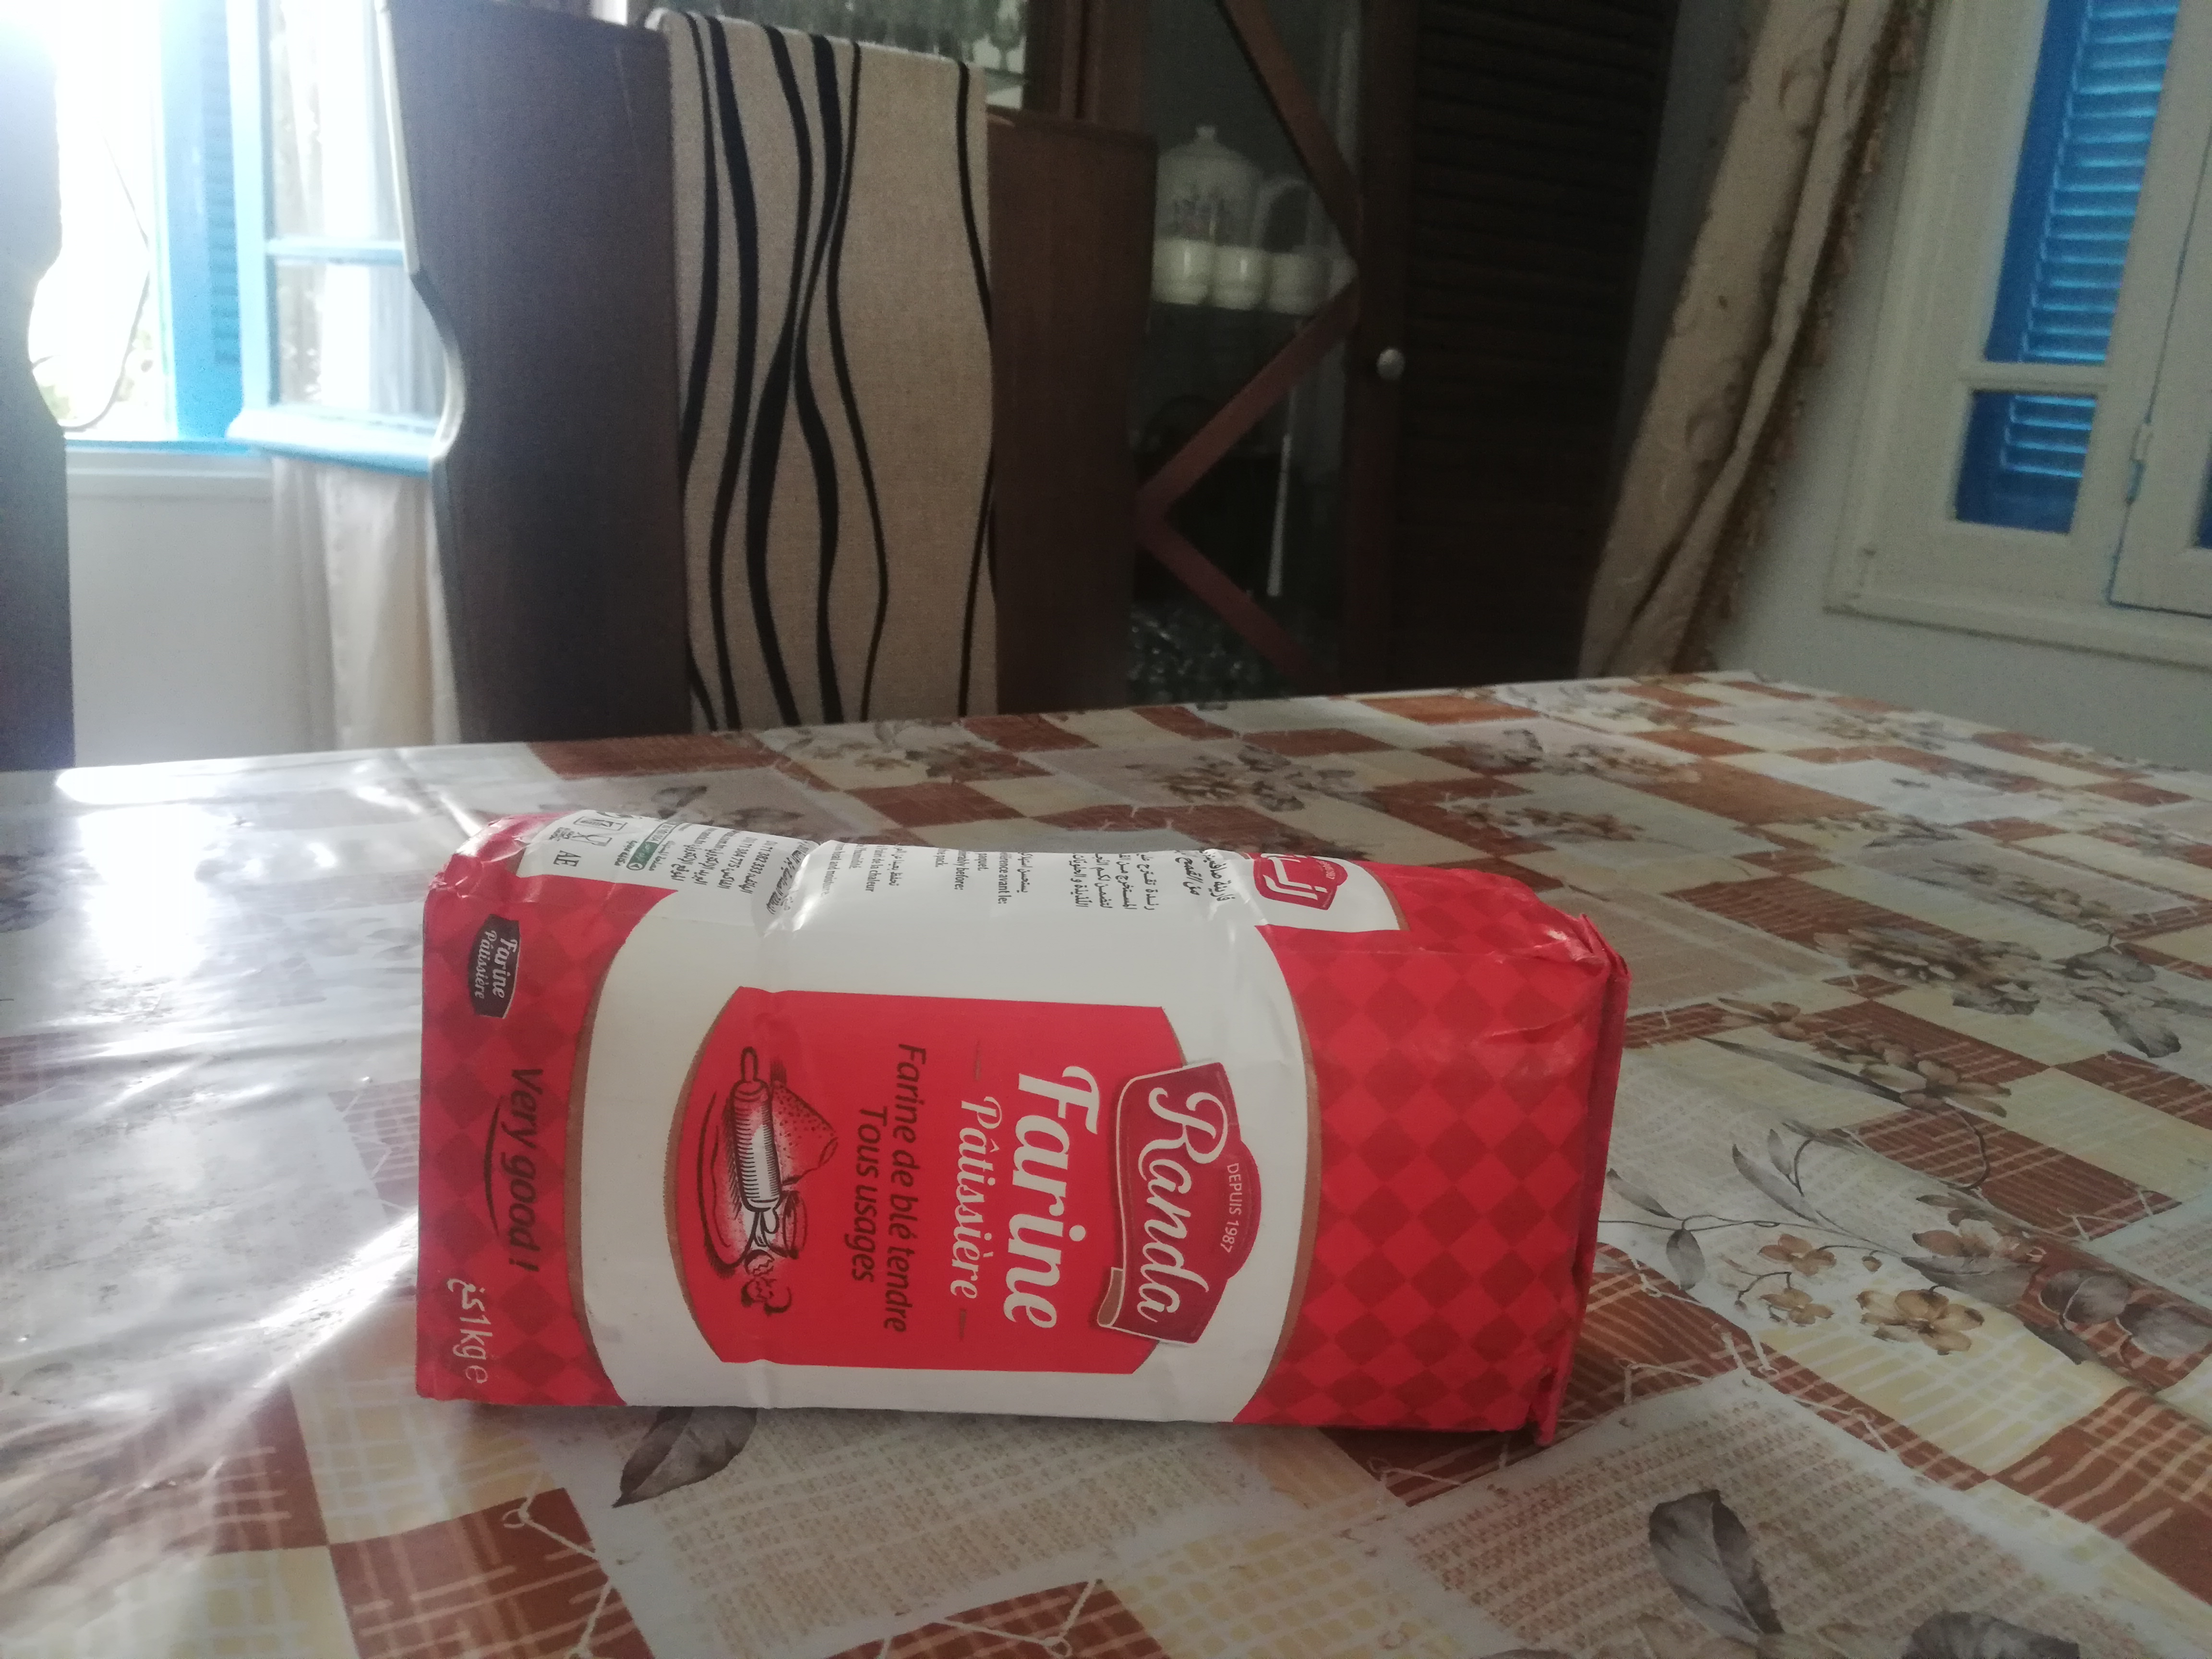Farine Randa: (416, 824, 1637, 1436)
